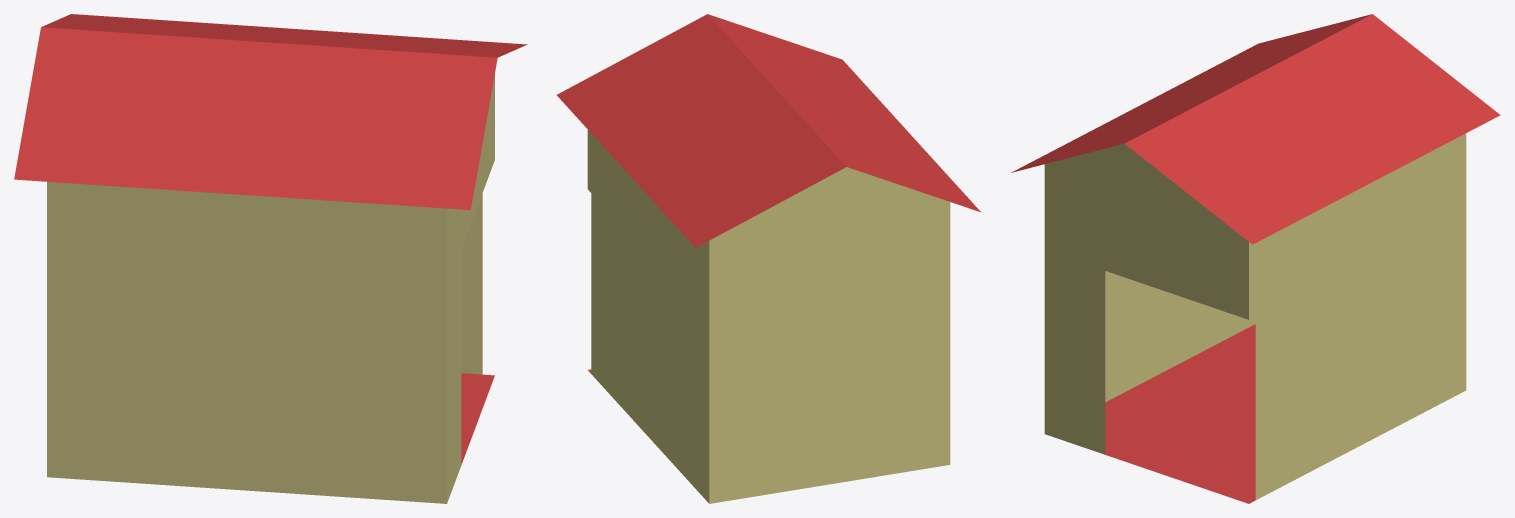
3 renders of one model, left to right at view 1: azimuth 30°, elevation 25°; view 2: azimuth 150°, elevation 25°; view 3: azimuth 270°, elevation 25°, orthographic. The views are drawn at different scales.
Parts seen in each view (by area): view 1: group_5, group_3, group_4, group_6; view 2: group_5, group_3, group_4; view 3: group_5, group_3, group_6, group_4.
Part boxes in pixels (<box>): group_5: <box>47,74,494,503</box>; group_3: <box>14,18,527,209</box>; group_4: <box>41,14,522,209</box>; group_6: <box>461,373,494,464</box>; group_5: <box>587,130,950,503</box>; group_3: <box>557,14,980,226</box>; group_4: <box>557,14,890,247</box>; group_5: <box>1044,133,1466,499</box>; group_3: <box>1019,14,1465,244</box>; group_6: <box>1105,324,1255,503</box>; group_4: <box>1011,14,1500,243</box>.
Bounding box in the file's own units: 15.41 × 15.04 × 11.2.
